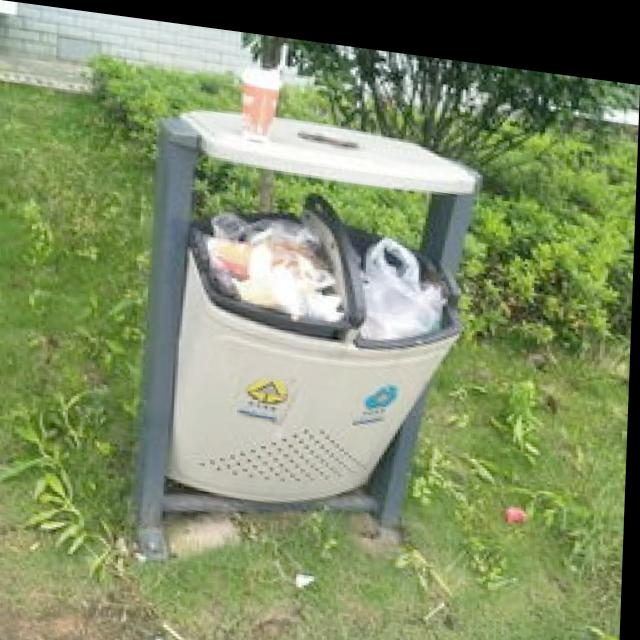overflow: (132, 43, 483, 585)
